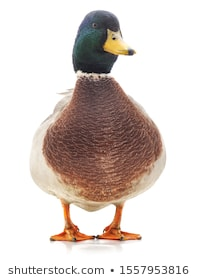duck: (15, 2, 172, 247)
